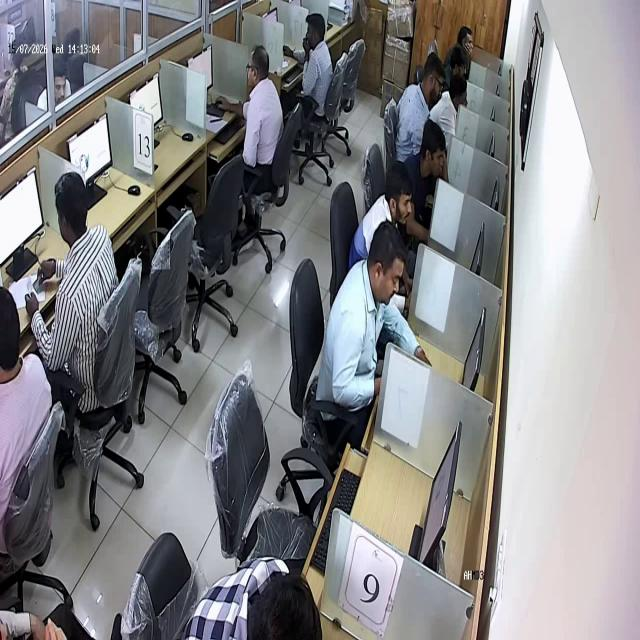paper-chit: (28, 273, 36, 303)
